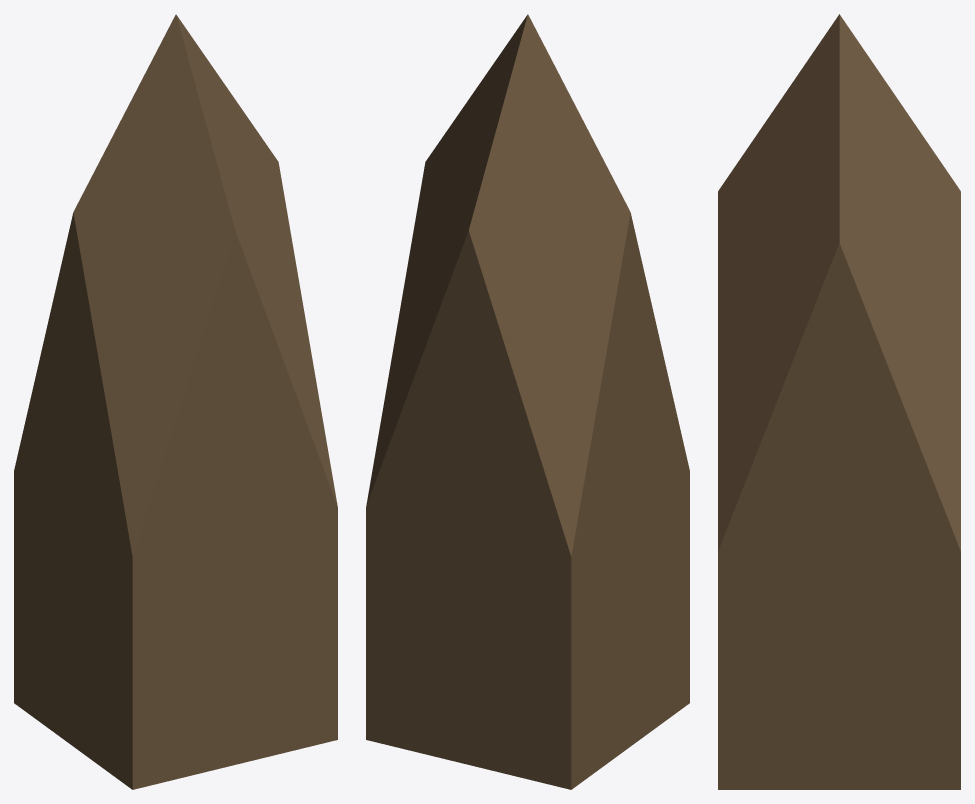
The model's file is rock_building.fbx.
3 renders of one model, left to right at view 1: azimuth 30°, elevation 25°; view 2: azimuth 150°, elevation 25°; view 3: azimuth 270°, elevation 25°, orthographic. The views are drawn at different scales.
Parts seen in each view (by area): view 1: rock; view 2: rock; view 3: rock.
Boxes of the visible parts, bbox=[...] form: rock: bbox=[14, 14, 337, 789]; rock: bbox=[366, 14, 689, 789]; rock: bbox=[718, 14, 960, 789].
Size of the model in its own units: 200 by 659 by 200.
